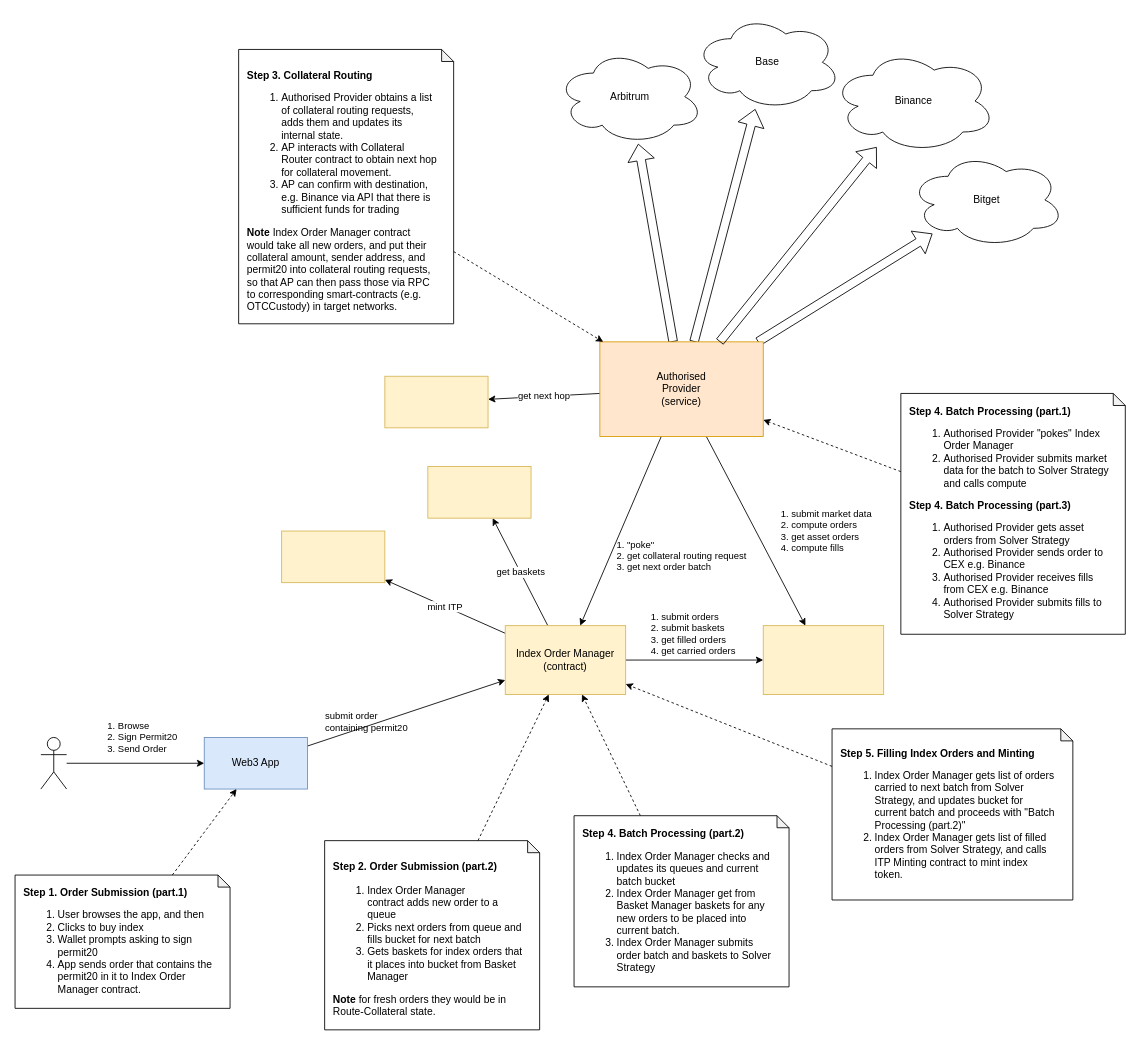
Some shapes in this 1140 by 1045 pixel diagram are drawn without their labels. Here are the shapes that lost their labels. From the top down, the centre of each, then its label:
point 436,401: Collateral Router (contract)
point 479,492: Basket Manager (contract)
point 333,556: ITP Minting (contract)
point 823,659: Solver Strategy (contract)
point 53,763: User
